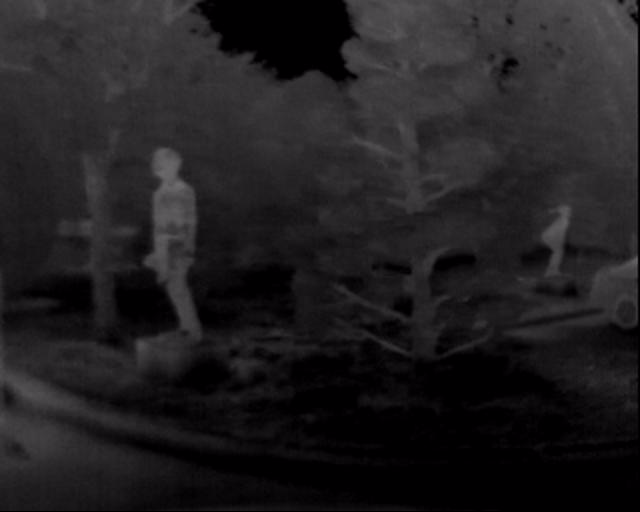person: (135, 139, 212, 369), (537, 199, 580, 284)
